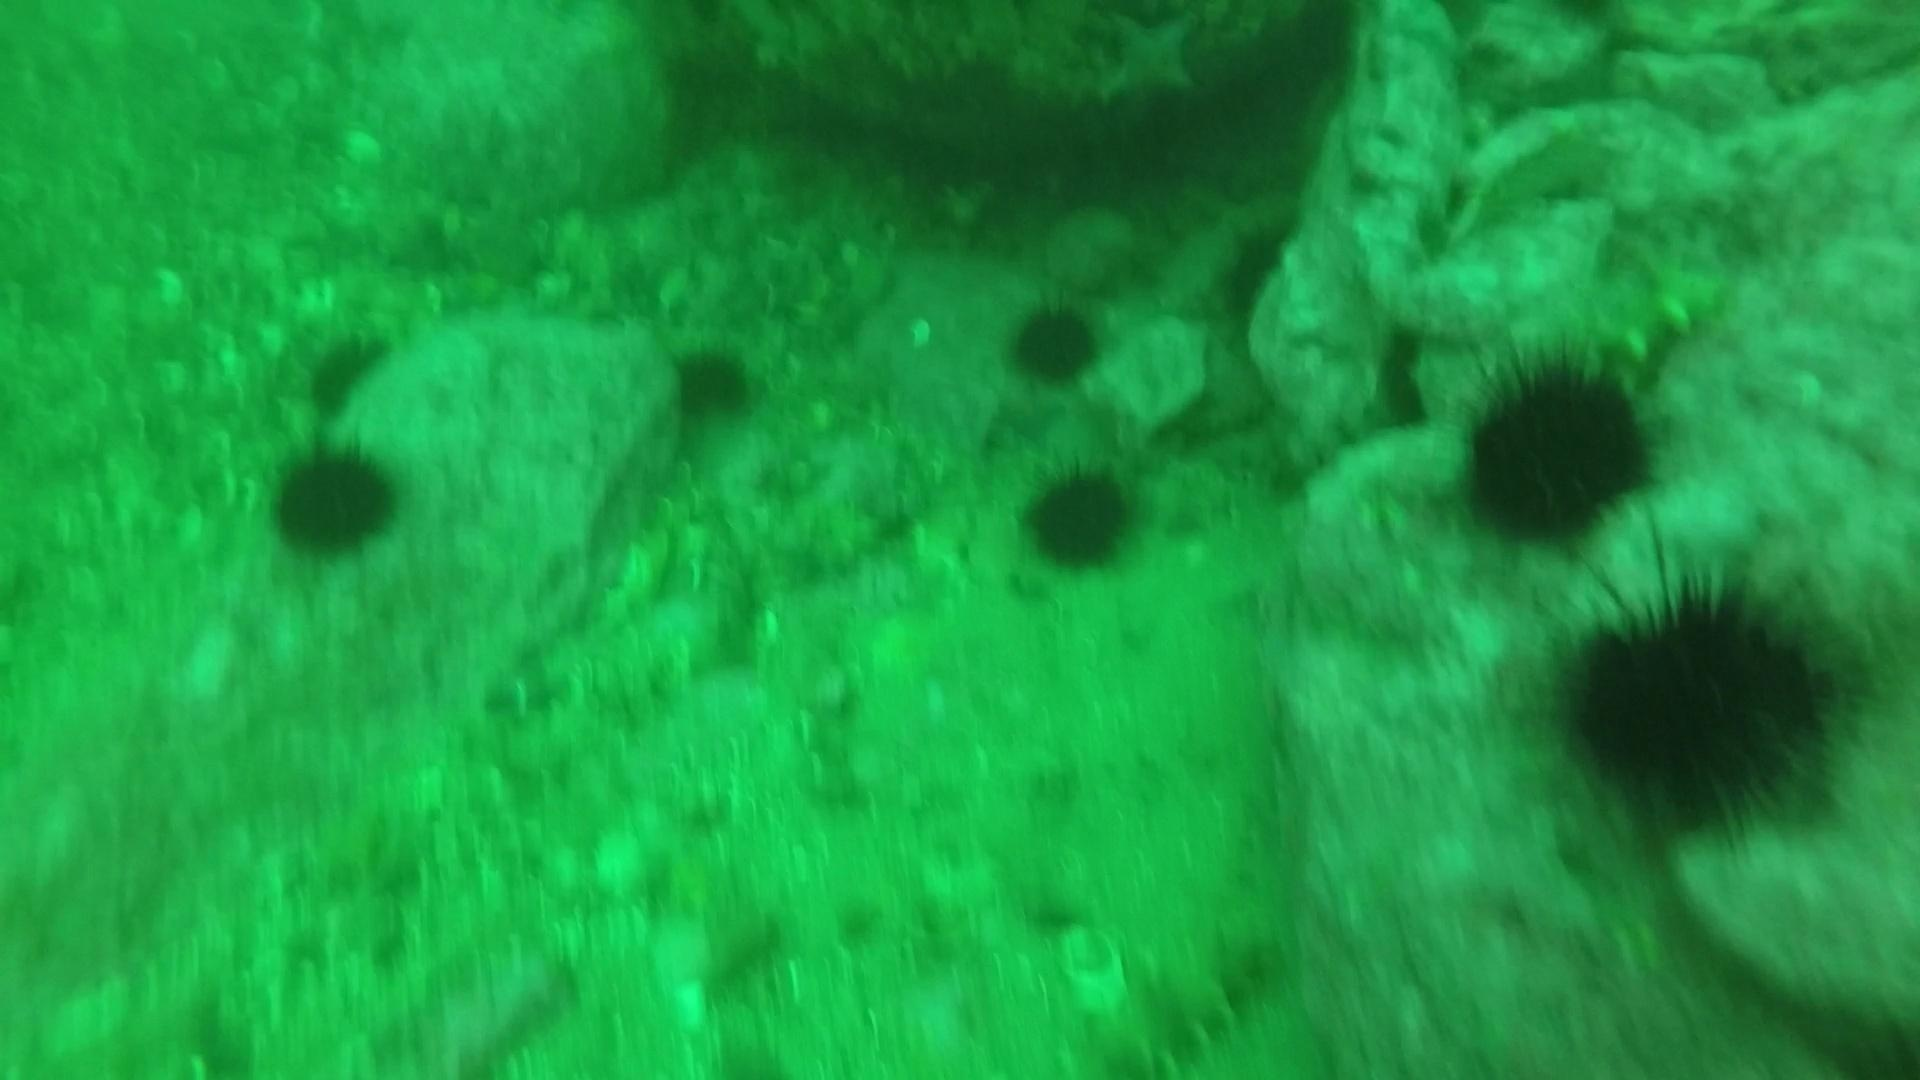echinus: (1545, 560, 1861, 839), (1448, 344, 1671, 553), (261, 433, 407, 563), (1015, 458, 1145, 578), (1204, 214, 1304, 330), (1000, 295, 1110, 392), (295, 324, 396, 422), (662, 339, 764, 429)
holothurian: (1063, 913, 1280, 1077)
starfish: (1083, 7, 1212, 113)
